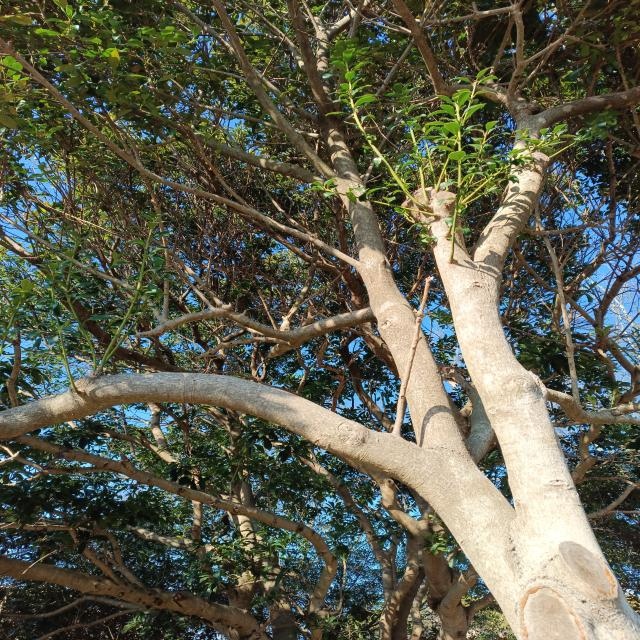Branch: (314, 104, 463, 451), (438, 115, 562, 509), (0, 371, 420, 478), (406, 185, 465, 271), (536, 85, 640, 126), (435, 84, 531, 124), (289, 308, 377, 348)
Twig: (0, 40, 358, 267), (0, 92, 171, 317), (371, 0, 611, 98), (211, 0, 337, 182), (263, 430, 395, 590), (0, 212, 169, 323), (117, 100, 323, 190), (98, 184, 224, 307), (535, 201, 580, 404), (549, 167, 632, 256), (515, 0, 592, 95), (133, 307, 292, 342), (392, 0, 445, 92), (185, 33, 305, 71), (522, 195, 628, 236), (548, 390, 640, 426), (343, 0, 412, 35), (171, 259, 216, 309), (488, 13, 516, 82), (354, 0, 410, 32), (354, 498, 397, 537), (329, 7, 367, 41), (301, 0, 320, 33), (624, 242, 640, 271)
